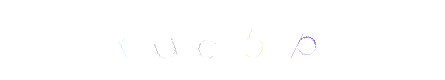5: (253, 0, 333, 80)
C: (214, 0, 294, 80)
P: (267, 0, 347, 80)
R: (182, 0, 262, 80)
U: (186, 0, 266, 80)
